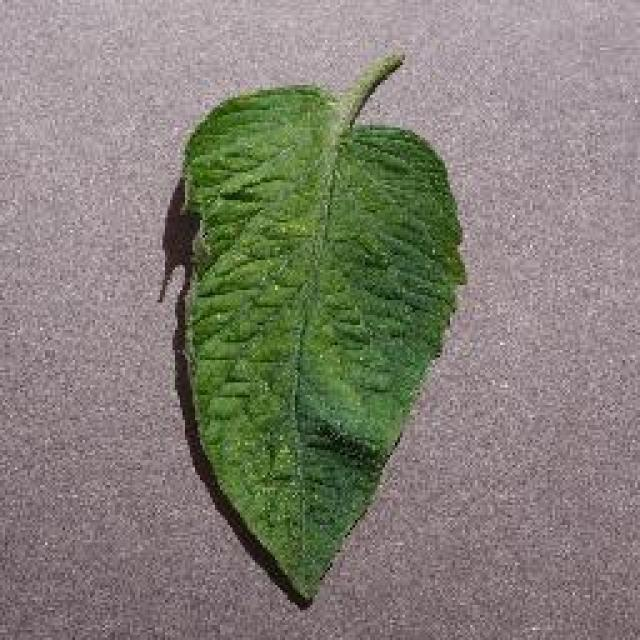Tomato___Spider_mites Two-spotted_spider_mite: (182, 58, 462, 600)
